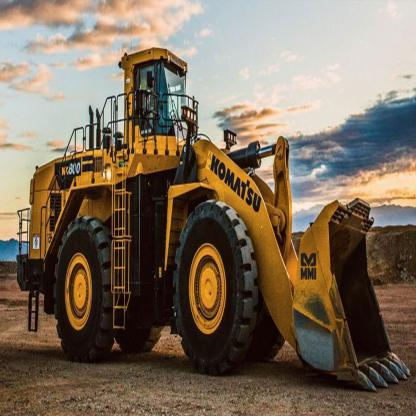bull_dozer/loader/grader: (16, 34, 416, 410)
